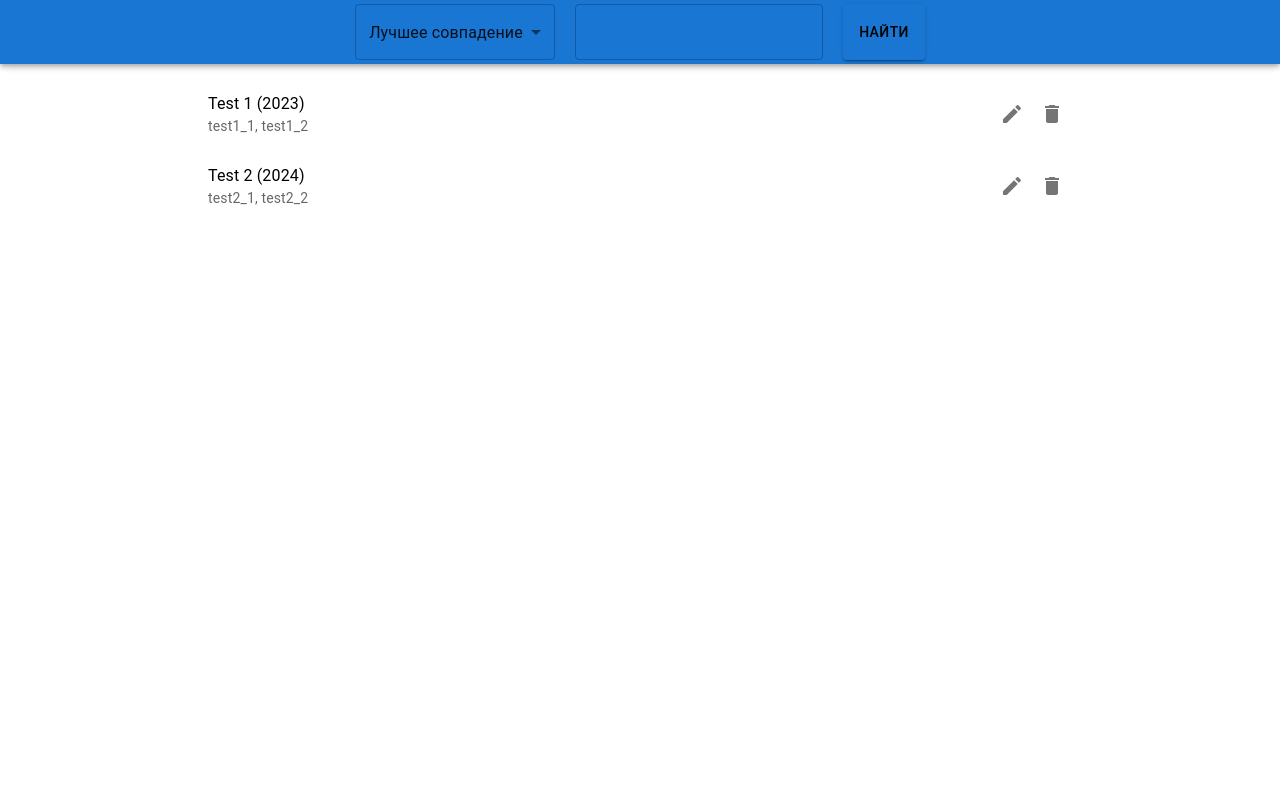
Test: BookList › Открытие окна с редактированием информации о книге
Click the 1st button with test id "edit-btn" at (1012, 114), box [992,94,1032,134]
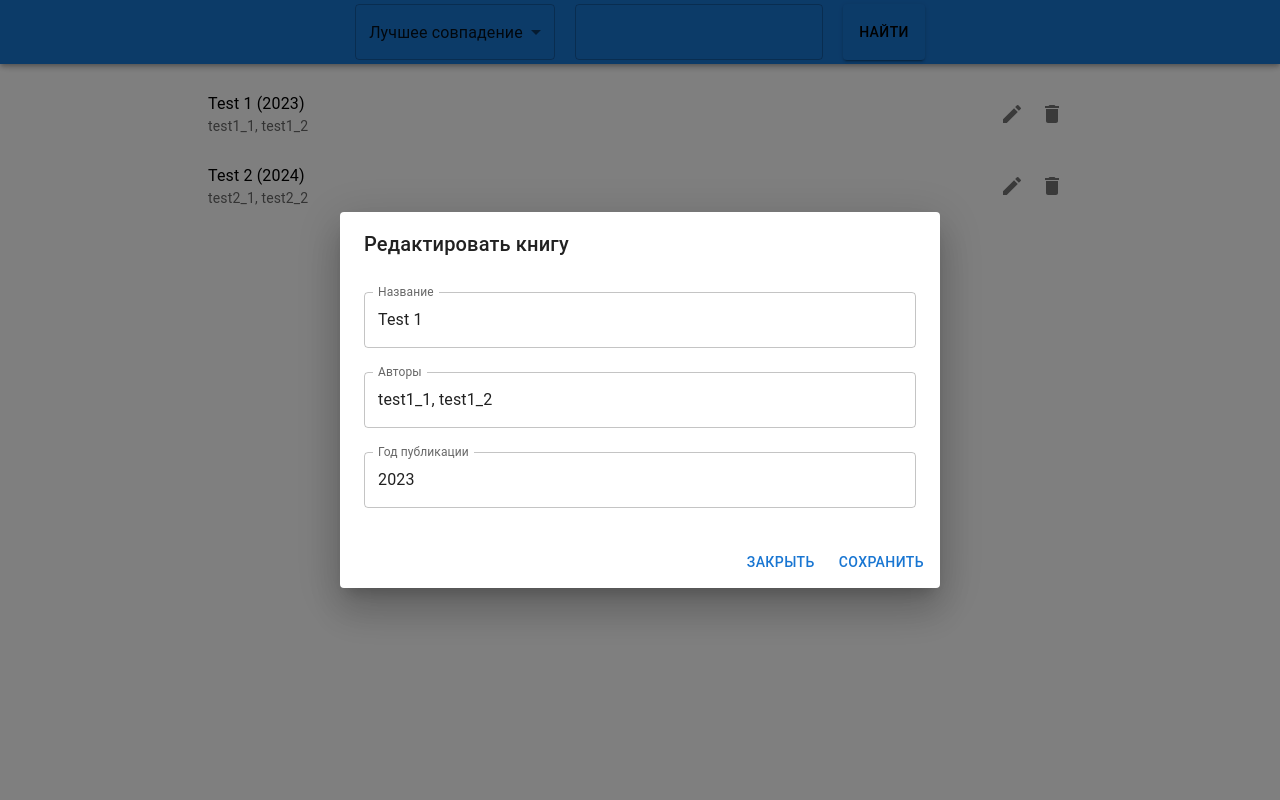
Now the heading "Редактировать книгу" is shown, box [364,232,569,256]
